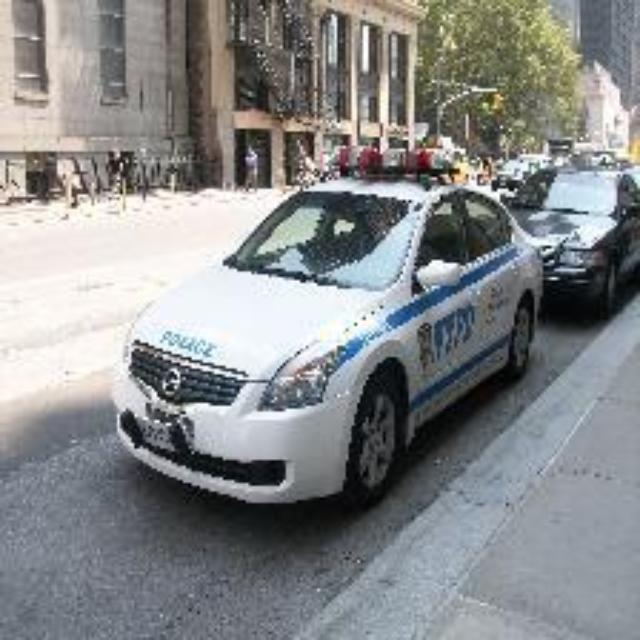emergency: (113, 152, 567, 502)
